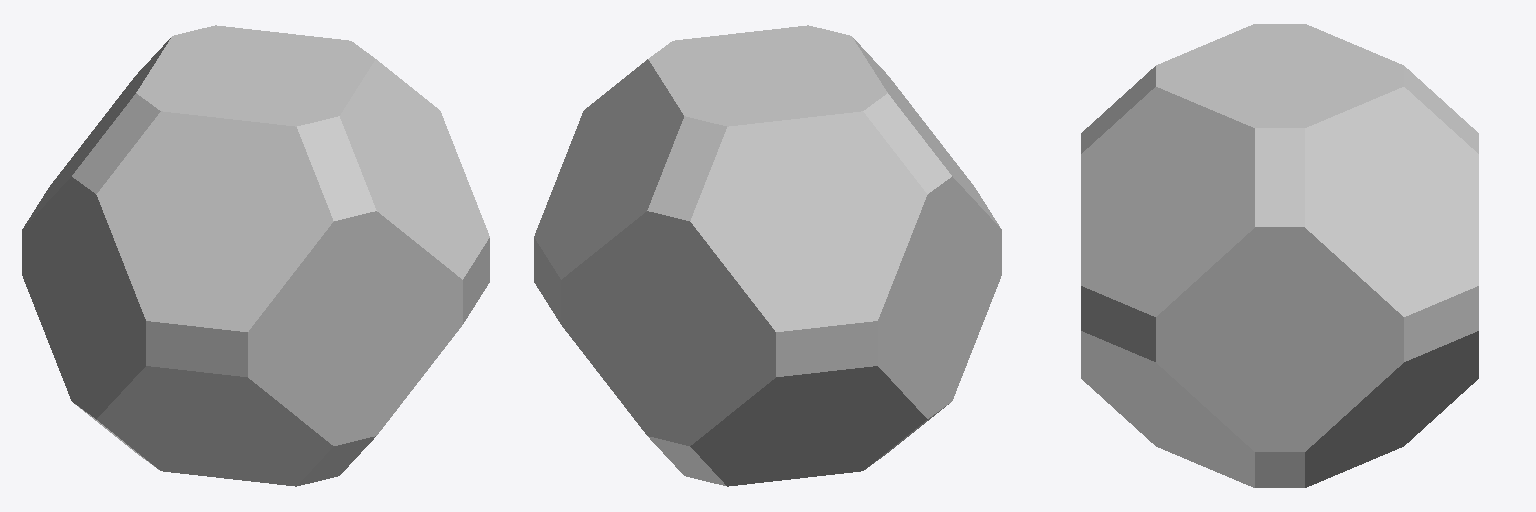
Rendered from cub3.obj.
3 renders of one model, left to right at view 1: azimuth 30°, elevation 25°; view 2: azimuth 150°, elevation 25°; view 3: azimuth 270°, elevation 25°, orthographic.
Visible parts, largest first — view 1: cube; view 2: cube; view 3: cube.
Boxes of the visible parts, x1,y1,x2,y2 form: cube: [22, 25, 489, 486]; cube: [534, 25, 1001, 486]; cube: [1081, 24, 1478, 487].
Bounding box in the file's own units: 1.6 × 1.6 × 1.6.